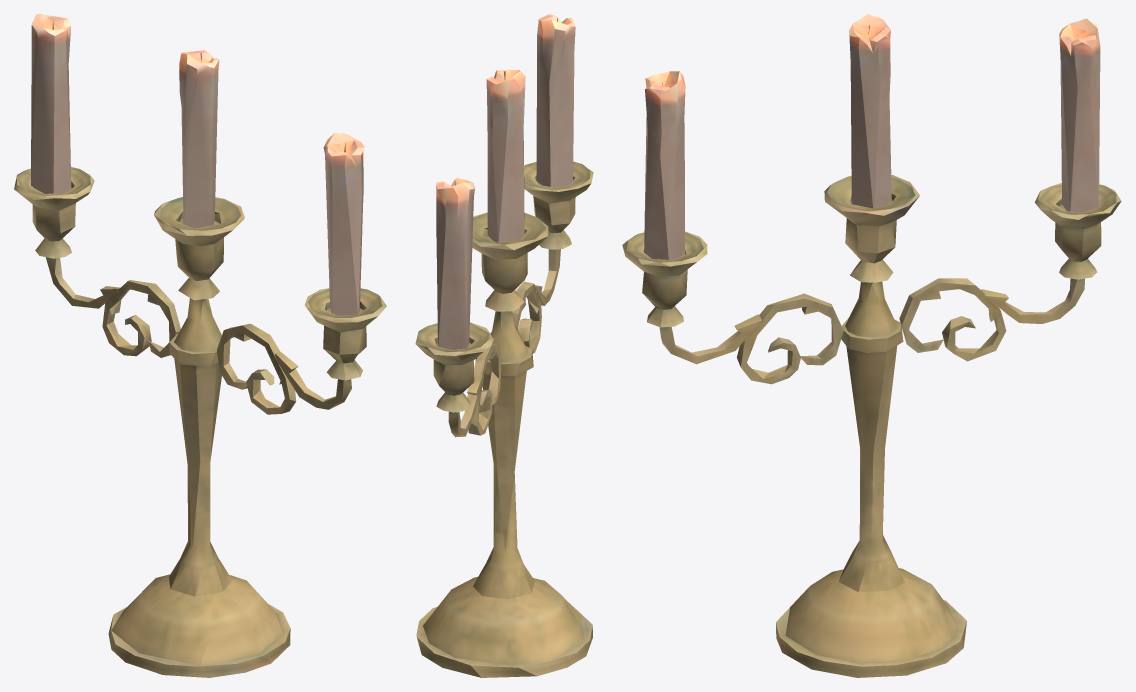
Rendered from candlestick-three-arm.lod1.glb.
The picture shows the model from 3 angles, left to right: view 1: azimuth 30°, elevation 25°; view 2: azimuth 150°, elevation 25°; view 3: azimuth 270°, elevation 25°; orthographic projection. The views are drawn at different scales.
Visible parts, largest first — view 1: candlestick-three-arm; view 2: candlestick-three-arm; view 3: candlestick-three-arm.
Part boxes in pixels (left/top/right/bottom): candlestick-three-arm: left=14, top=14, right=386, bottom=677; candlestick-three-arm: left=415, top=14, right=593, bottom=677; candlestick-three-arm: left=622, top=14, right=1121, bottom=677.
Size of the model in its own units: 0.1051 by 0.36 by 0.2641.
Materials: 1 (1 with a texture image).
